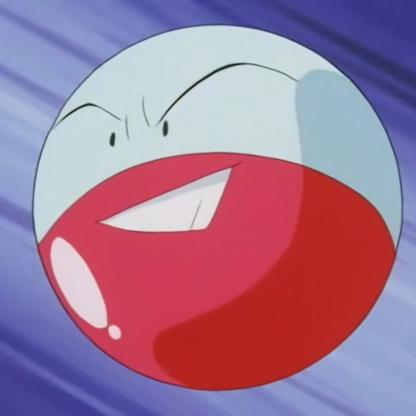Electrode: (33, 20, 403, 392)
